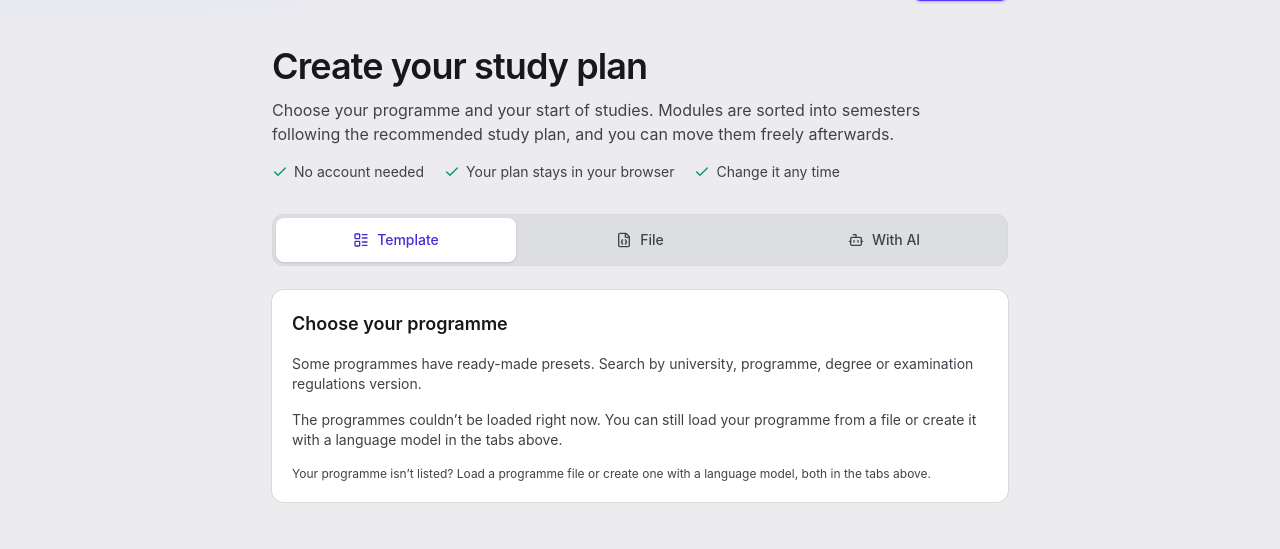
programme flow on the start page › shows English headings
Expected: the heading "Create your study plan" is shown, [272, 44, 647, 88]
Expected: the element "Choose your programme" is shown, [272, 290, 1008, 502]
Click the tab "With AI": (884, 240) [764, 218, 1004, 262]
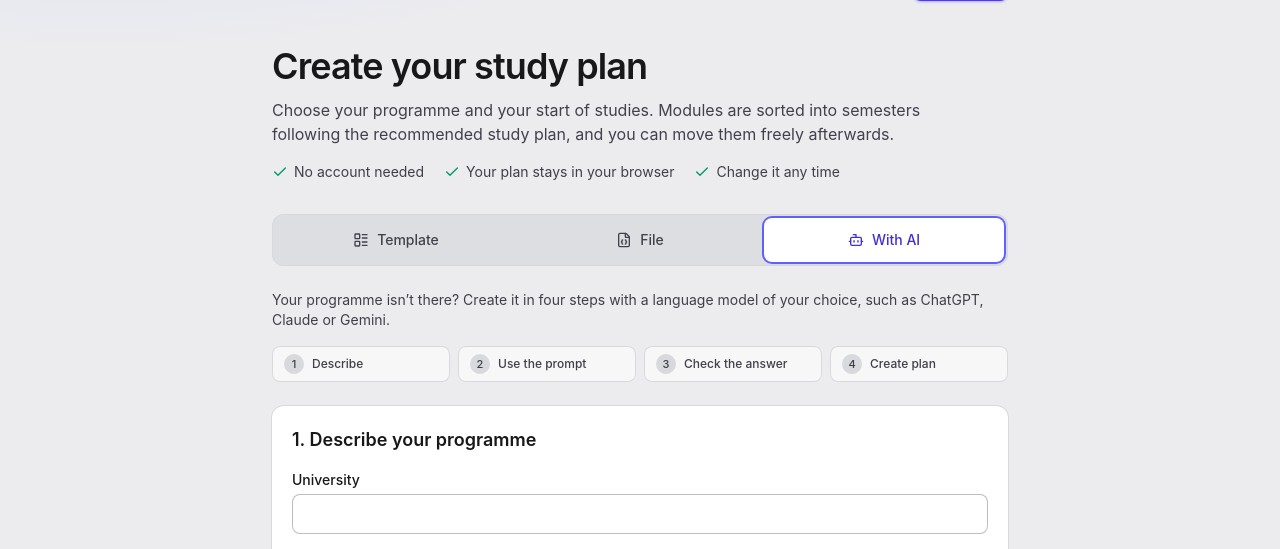
In the field labelled "University": (640, 514) [292, 494, 988, 534], type "Example University"
(page scrolled)
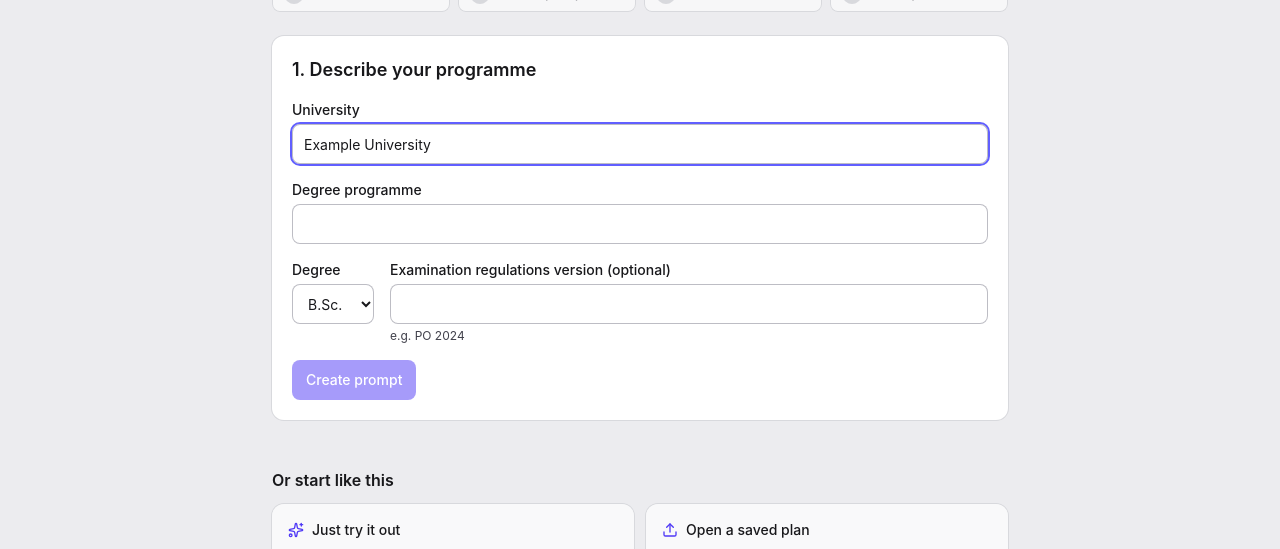
In the field labelled "Degree programme": (640, 224) [292, 204, 988, 244], type "Computer Science"
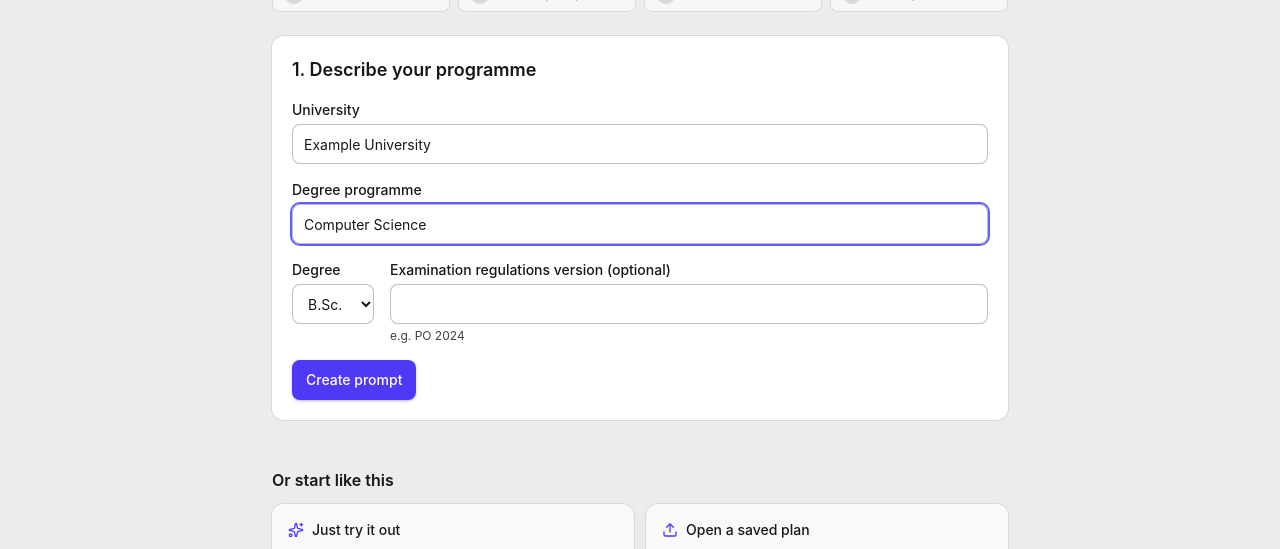
Click the button "Create prompt": (354, 380) [292, 360, 416, 400]
(page scrolled)
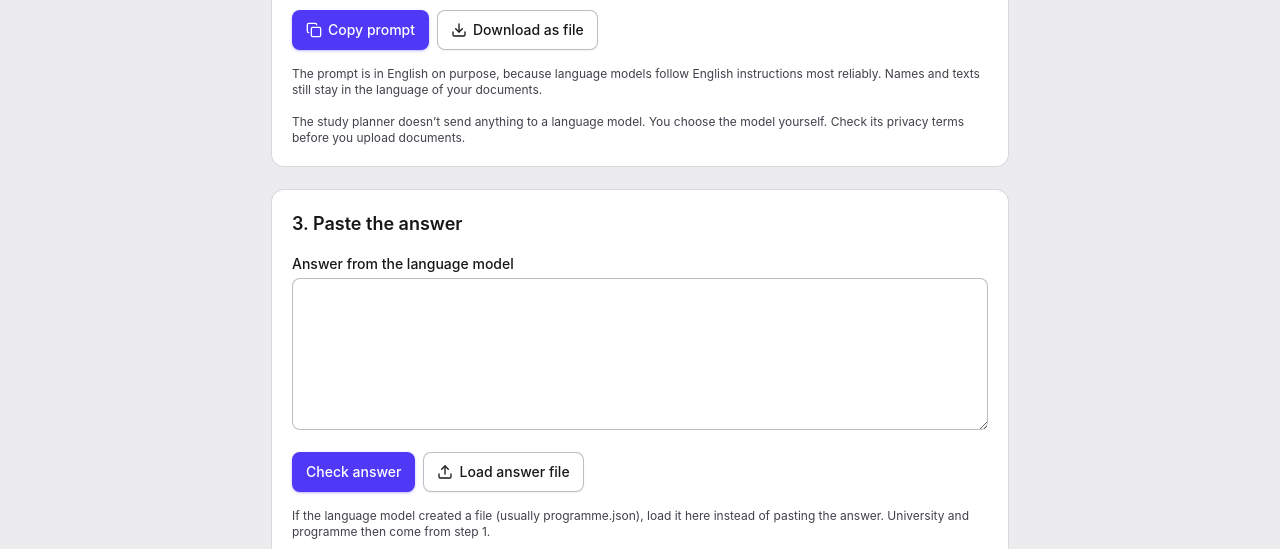
Now the heading "3. Paste the answer" is shown, box [292, 213, 462, 234]
